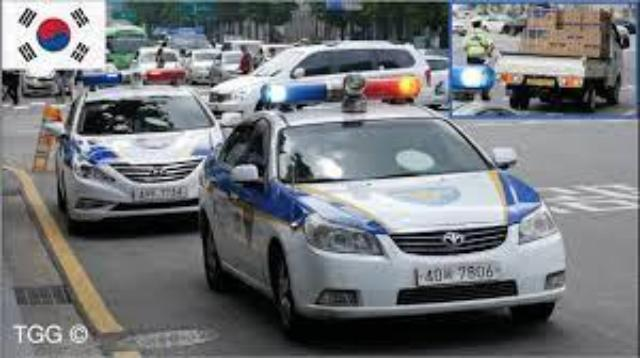police_car: (201, 77, 567, 329), (58, 68, 220, 226)
